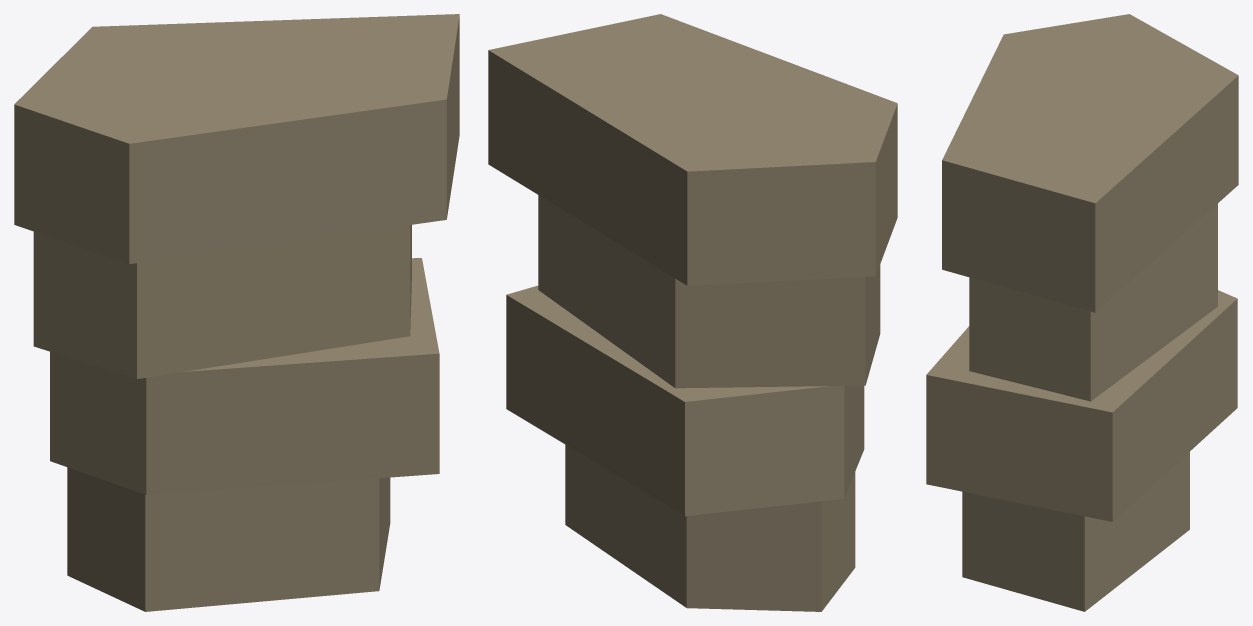
File: 地形块A1.FBX
3 renders of one model, left to right at view 1: azimuth 30°, elevation 25°; view 2: azimuth 150°, elevation 25°; view 3: azimuth 270°, elevation 25°, orthographic. The views are drawn at different scales.
Parts seen in each view (by area): view 1: 地形块A1; view 2: 地形块A1; view 3: 地形块A1.
Part boxes in pixels (left/top/right/bottom): 地形块A1: left=14, top=14, right=459, bottom=611; 地形块A1: left=488, top=14, right=897, bottom=611; 地形块A1: left=926, top=14, right=1238, bottom=611.
Bounding box in the file's own units: 2.88 × 3.13 × 2.01.
Materials: 1 (1 with a texture image).
